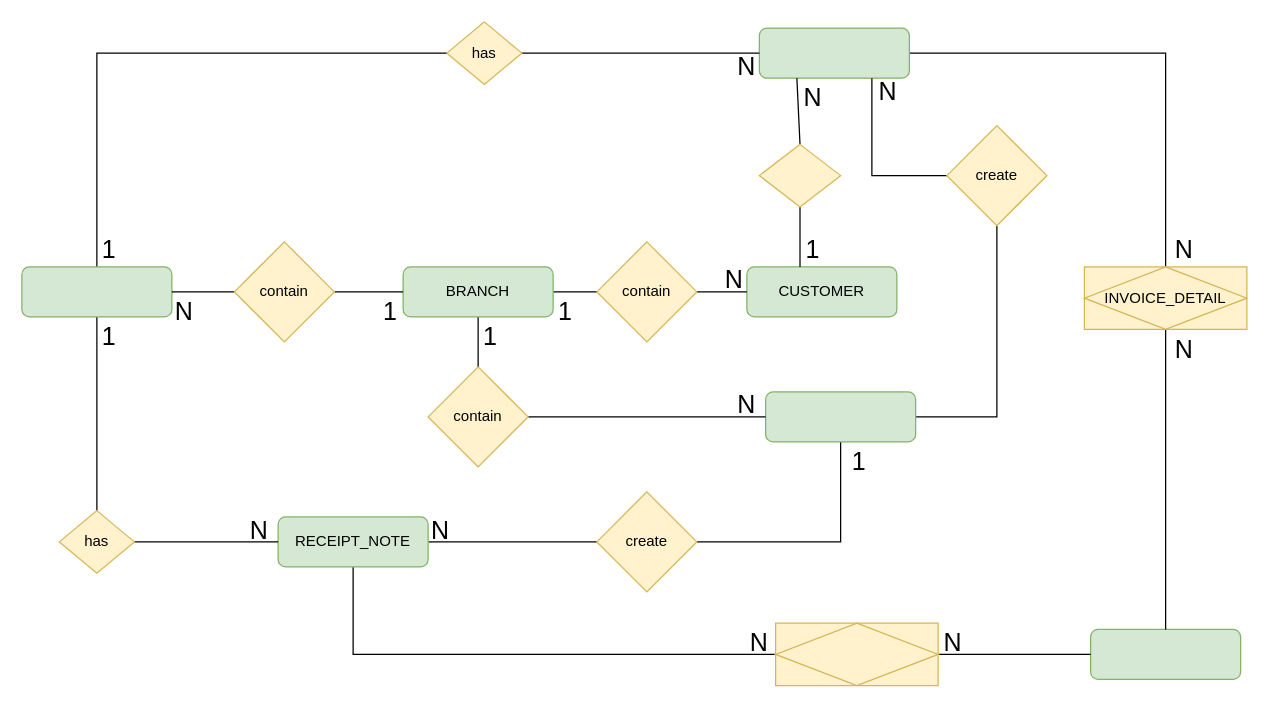
Some shapes in this 1269 by 708 pixel diagram are drawn without their labels. Here are the shapes that lost their labels. From the top down, the box of each, then its label:
(758, 27, 909, 78): INVOICE
(758, 143, 841, 207): in
(21, 266, 172, 317): STORE
(764, 391, 916, 442): EMPLOYEE
(774, 622, 938, 686): RECEIPT_DETAIL
(1089, 628, 1241, 679): SEAFOOD
